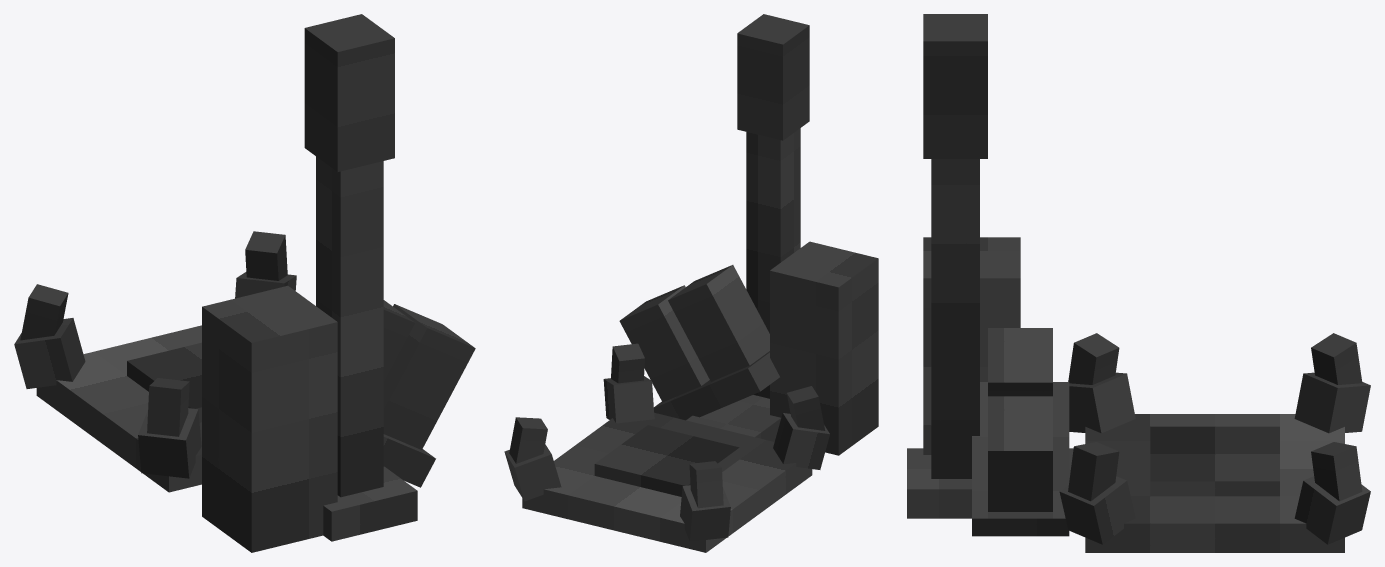
Rendered from portal_anchor.obj.
3 views of the same model, side by side, from view 1: azimuth 30°, elevation 25°; view 2: azimuth 150°, elevation 25°; view 3: azimuth 270°, elevation 25° (orthographic). The views are drawn at different scales.
Parts seen in each view (by area): view 1: st3, st4, st1, st5, st2, st6, st7; view 2: st3, st4, st1, st2, st5, st6, st7; view 3: st3, st4, st1, st5, st2, st6, st7.
Boxes of the visible parts, box(x1,y1,x2,y2) form: st3: box(138, 156, 435, 552); st4: box(147, 14, 414, 436); st1: box(36, 325, 201, 492); st5: box(235, 272, 475, 449); st2: box(127, 342, 417, 541); st6: box(14, 231, 287, 388); st7: box(20, 284, 68, 340); st3: box(654, 128, 878, 469); st4: box(603, 14, 825, 430); st1: box(522, 413, 812, 552); st2: box(594, 395, 781, 496); st5: box(504, 285, 709, 501); st6: box(509, 417, 730, 541); st7: box(689, 461, 723, 508); st3: box(923, 159, 1135, 536); st4: box(923, 14, 1135, 544); st1: box(1085, 414, 1344, 552); st5: box(988, 396, 1370, 544); st2: box(907, 426, 1279, 518); st6: box(1294, 372, 1370, 501); st7: box(1311, 333, 1362, 384).
Bounding box in the file's own units: 1.24 × 2 × 1.79.
